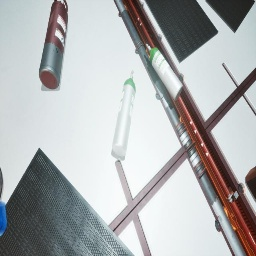0: (146, 44, 183, 100), (112, 70, 136, 156)
NitrogenTank ,: (38, 0, 68, 89)
